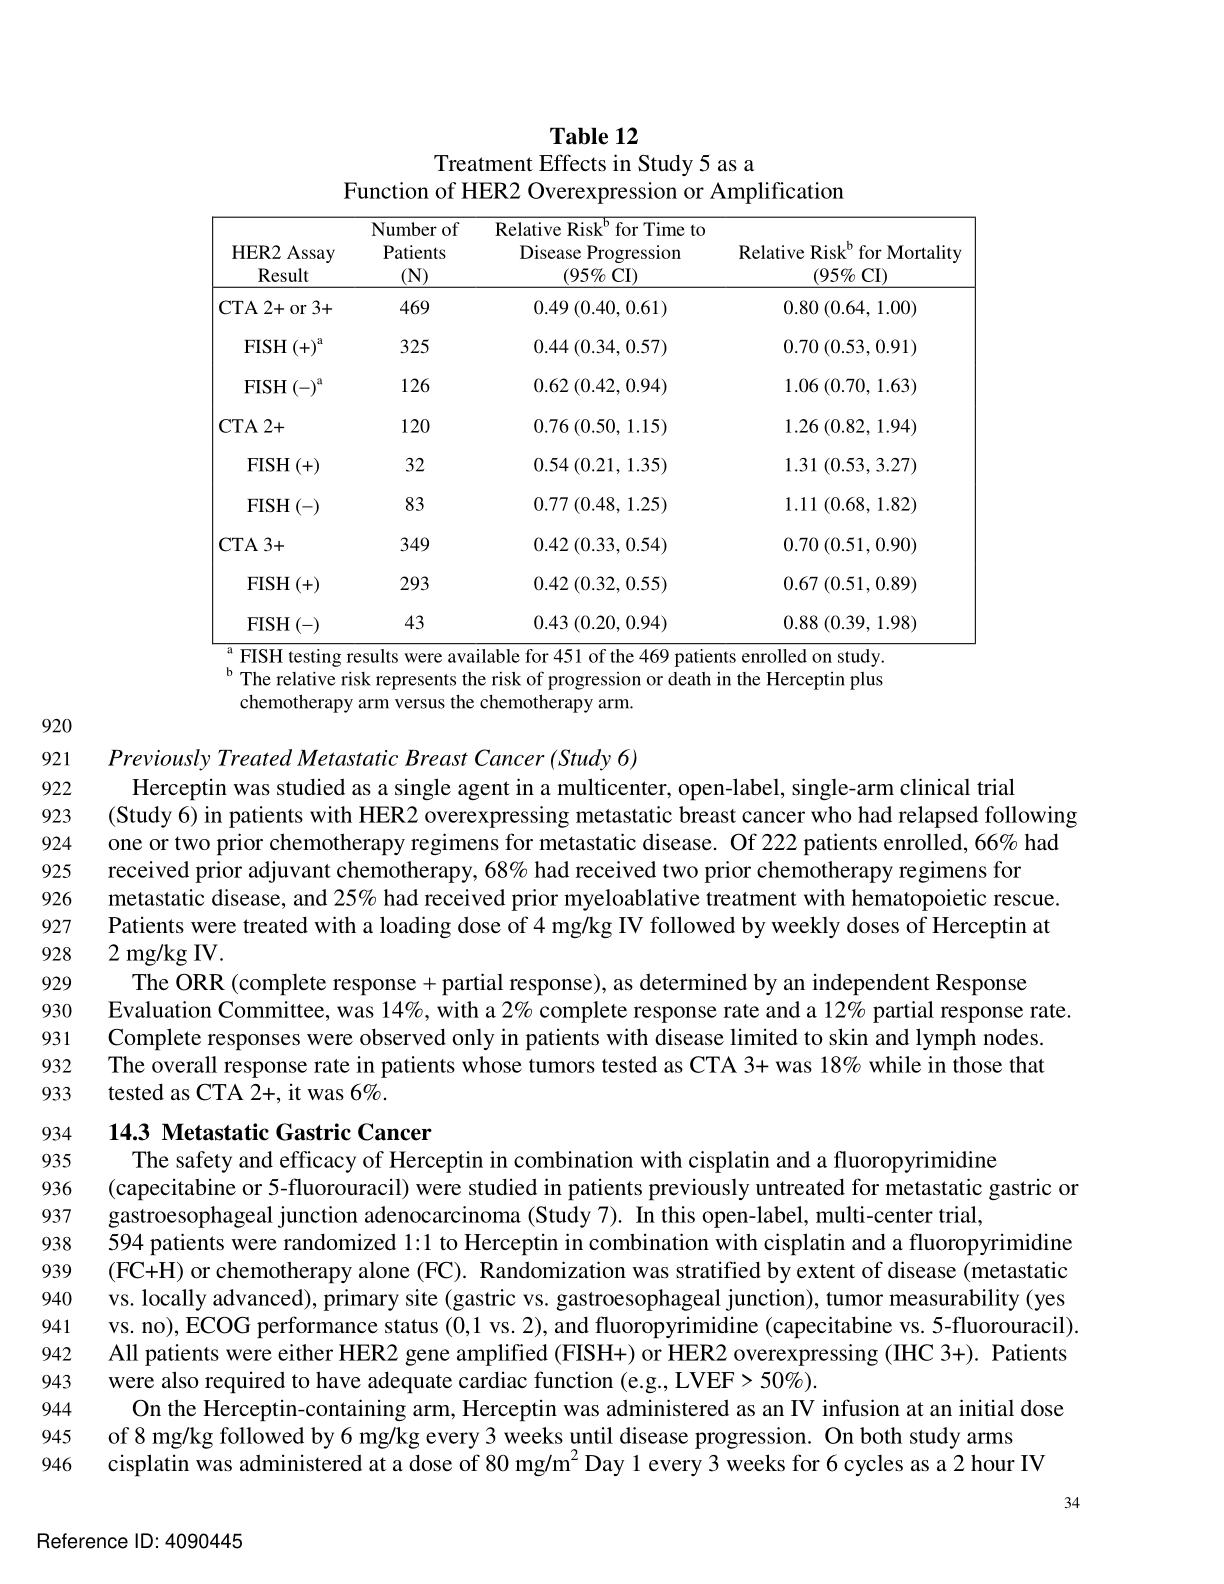partial_lined: (210, 216, 978, 647)
